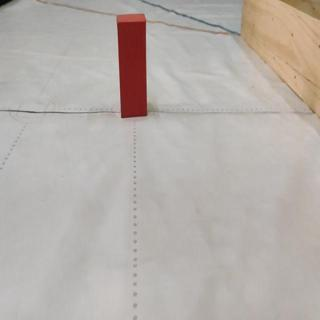redbox: (117, 13, 148, 119)
